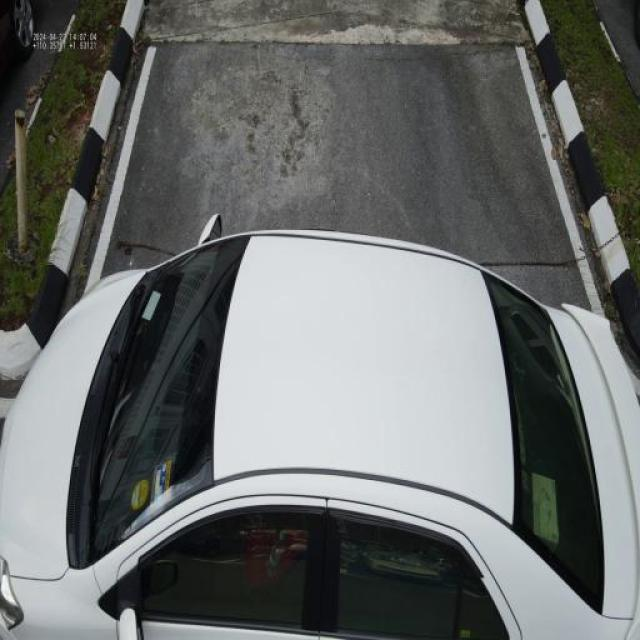Legalparking: (14, 175, 640, 640)
